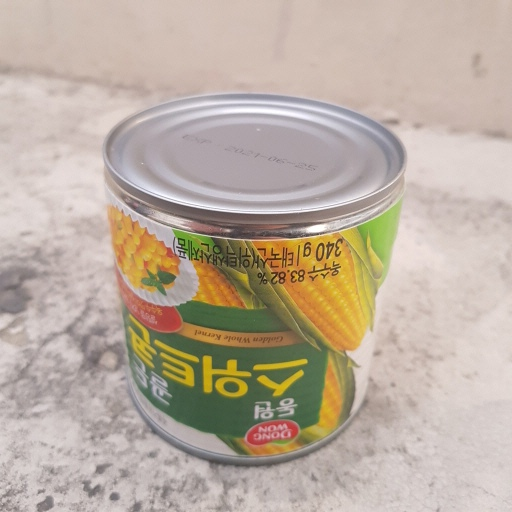Metal_1: (101, 93, 410, 463)
